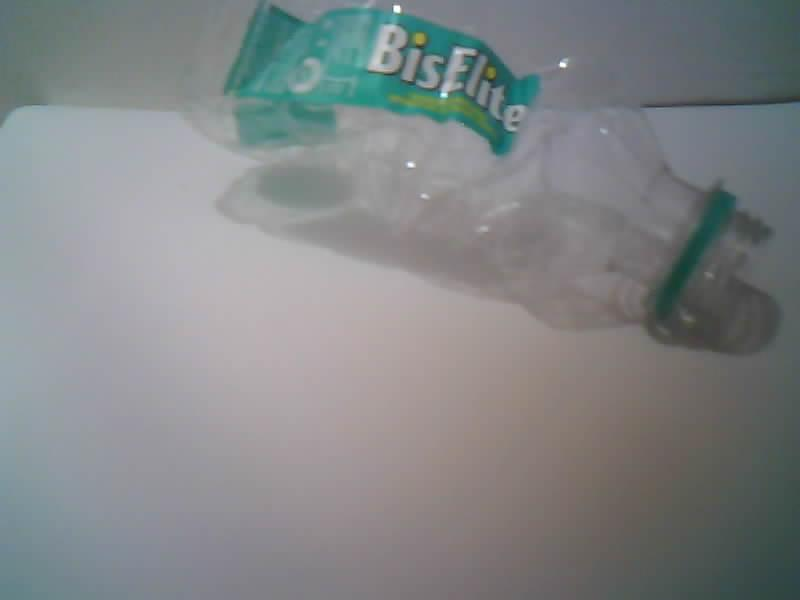non-biodegradable: (186, 0, 778, 353)
